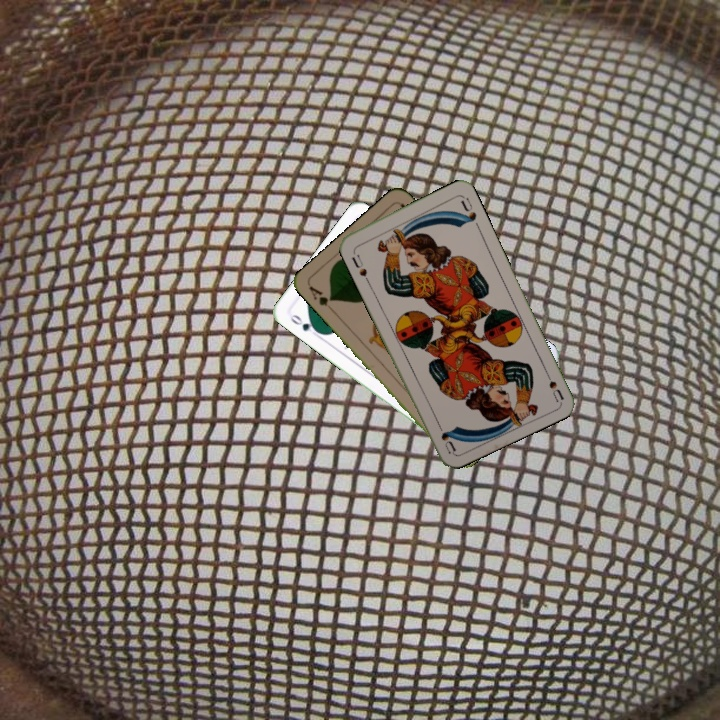GA: (305, 282, 337, 315)
GO: (286, 310, 322, 336)
SU: (540, 364, 566, 404), (347, 250, 370, 279)
